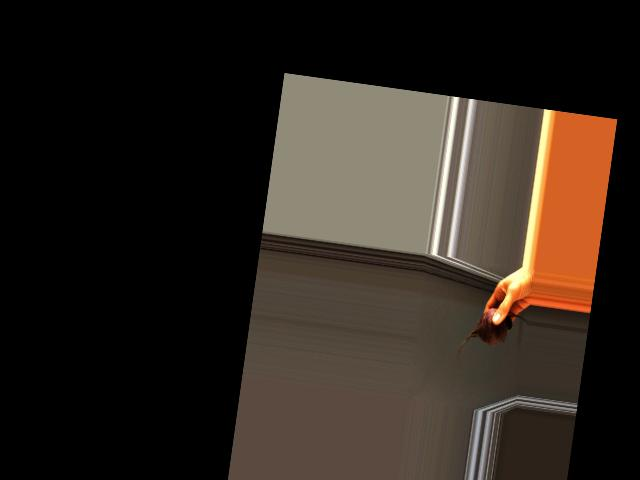beet: (456, 304, 529, 368)
